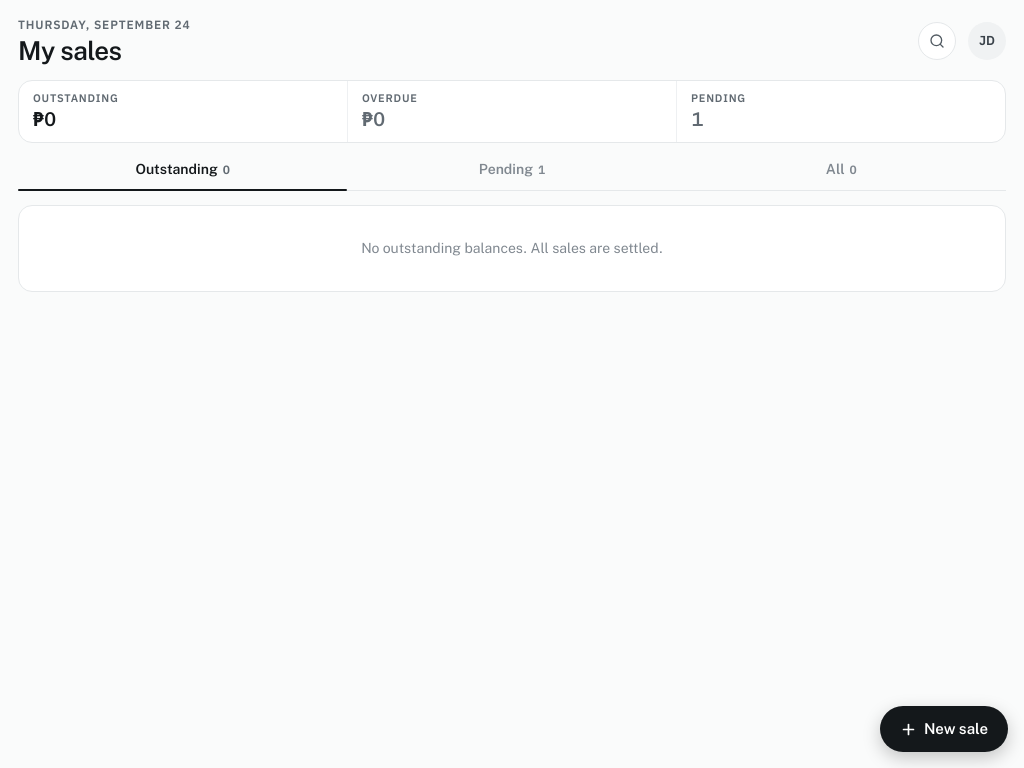
Test: My sales › shows a submission that is waiting for approval, and does not pretend it opens
Click the tab with aria-label "Pending, 1".
click(512, 174)  # box left=347, top=159, right=677, bottom=190
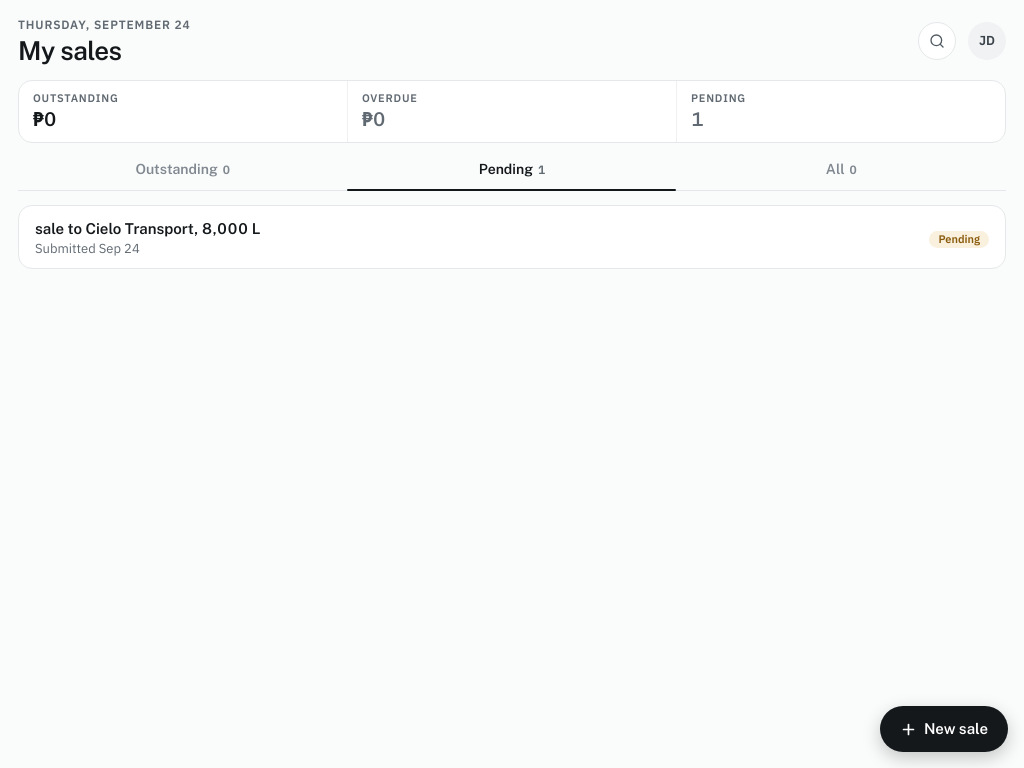
Now the text "Submitted Sep 24" is shown, box left=35, top=240, right=140, bottom=257
